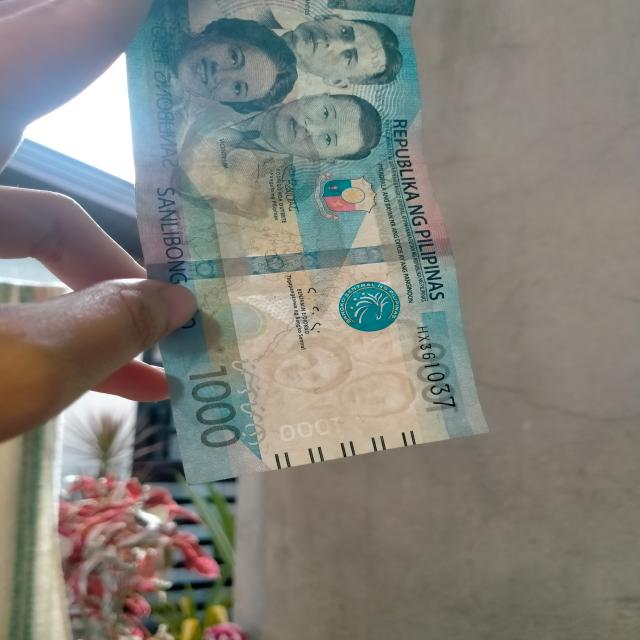security_thread: (147, 238, 466, 281)
see_through_mark: (218, 346, 280, 457)
value_watermark: (275, 415, 350, 442)
watermark: (268, 311, 428, 418)
